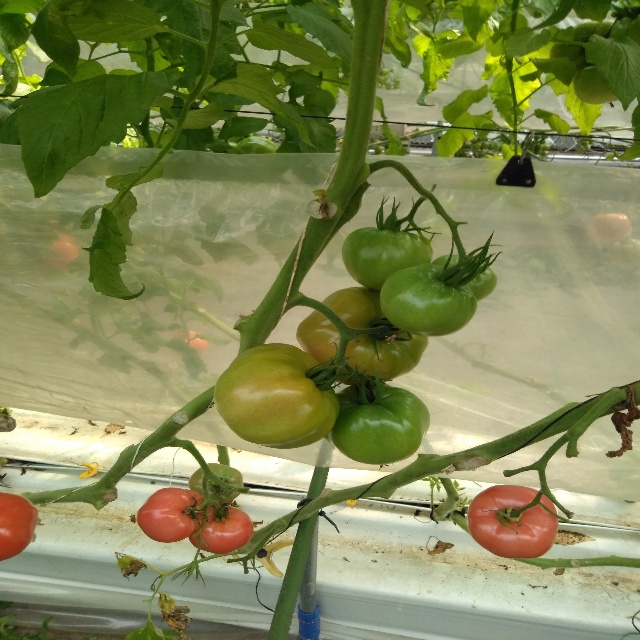b_fully_ripened: (467, 485, 558, 560), (136, 487, 215, 543), (189, 503, 253, 554), (0, 491, 39, 562)
b_green: (323, 382, 431, 465), (379, 262, 478, 336), (341, 227, 434, 291), (430, 254, 498, 302), (188, 463, 243, 504), (574, 65, 619, 105)
b_half_ripened: (213, 343, 340, 449), (296, 286, 428, 385)
